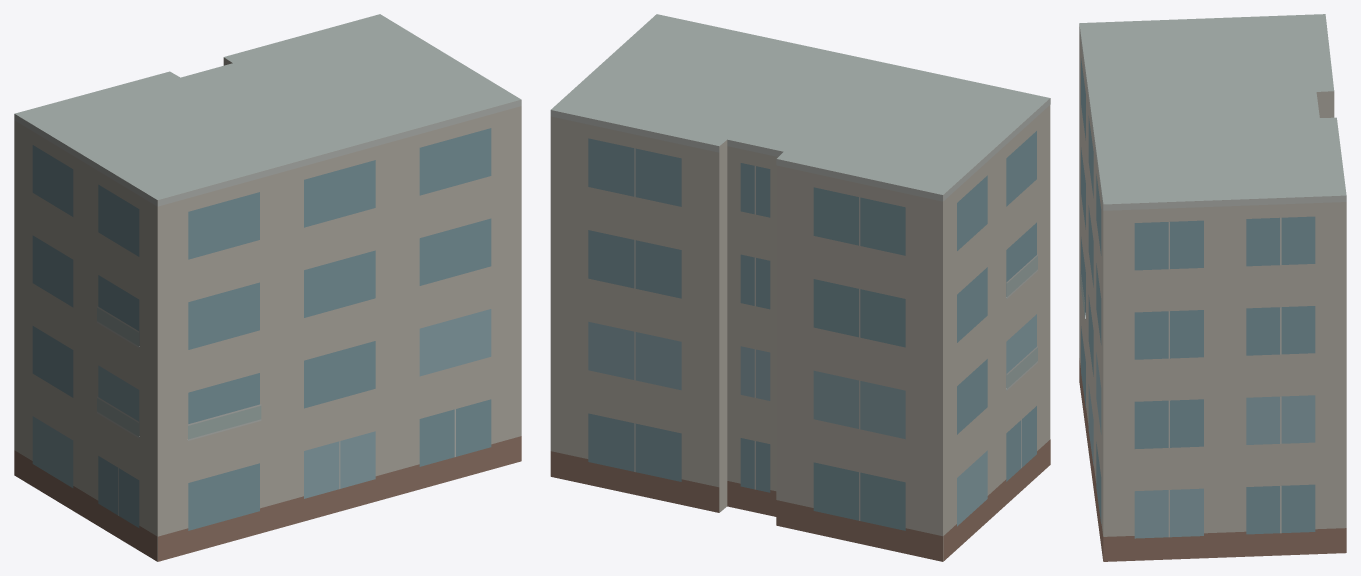
Rendered from survey-upis-32634963.glb.
The picture shows the model from 3 angles, left to right: view 1: azimuth 30°, elevation 25°; view 2: azimuth 150°, elevation 25°; view 3: azimuth 270°, elevation 25°; orthographic projection. The views are drawn at different scales.
Visible parts, largest first — view 1: survey-upis-32634963.tmp; view 2: survey-upis-32634963.tmp; view 3: survey-upis-32634963.tmp.
Part boxes in pixels (<box>): survey-upis-32634963.tmp: <box>14,14,521,561</box>; survey-upis-32634963.tmp: <box>550,14,1050,561</box>; survey-upis-32634963.tmp: <box>1079,14,1346,561</box>.
Size of the model in its own units: 15.63 by 13.67 by 9.28.
